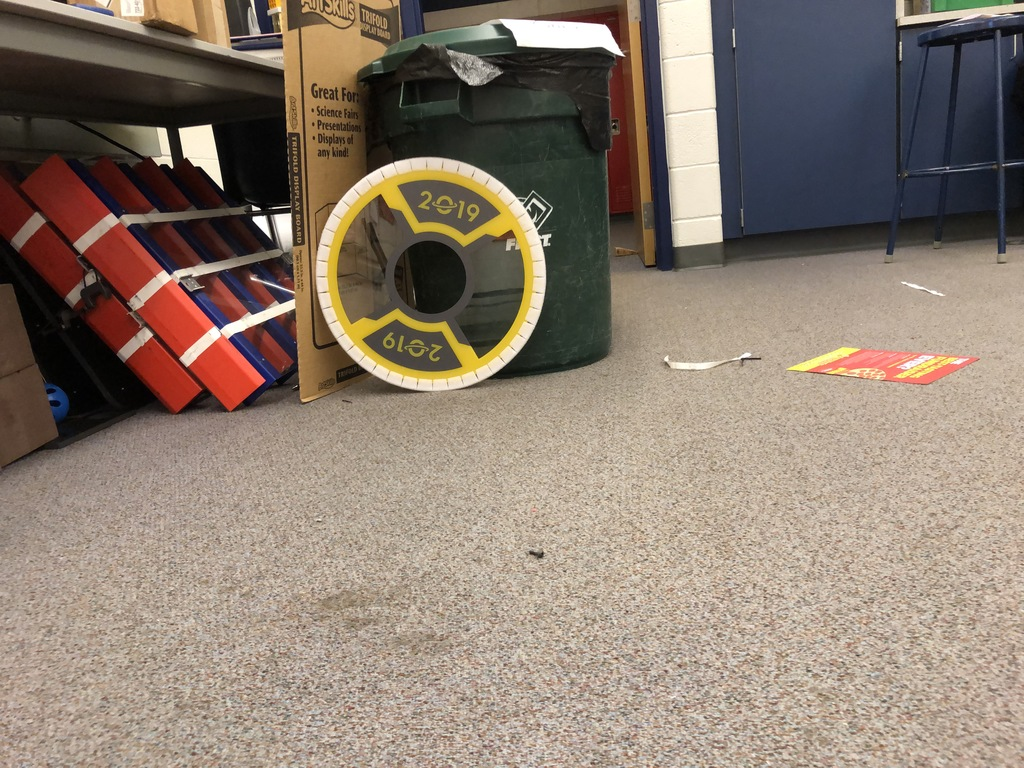hatch_panel: (311, 150, 566, 405)
